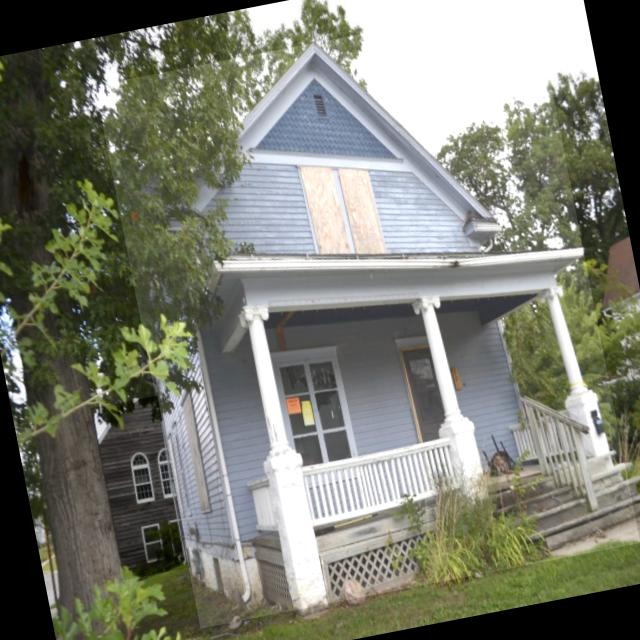House: (95, 0, 640, 629), (90, 396, 190, 580)
